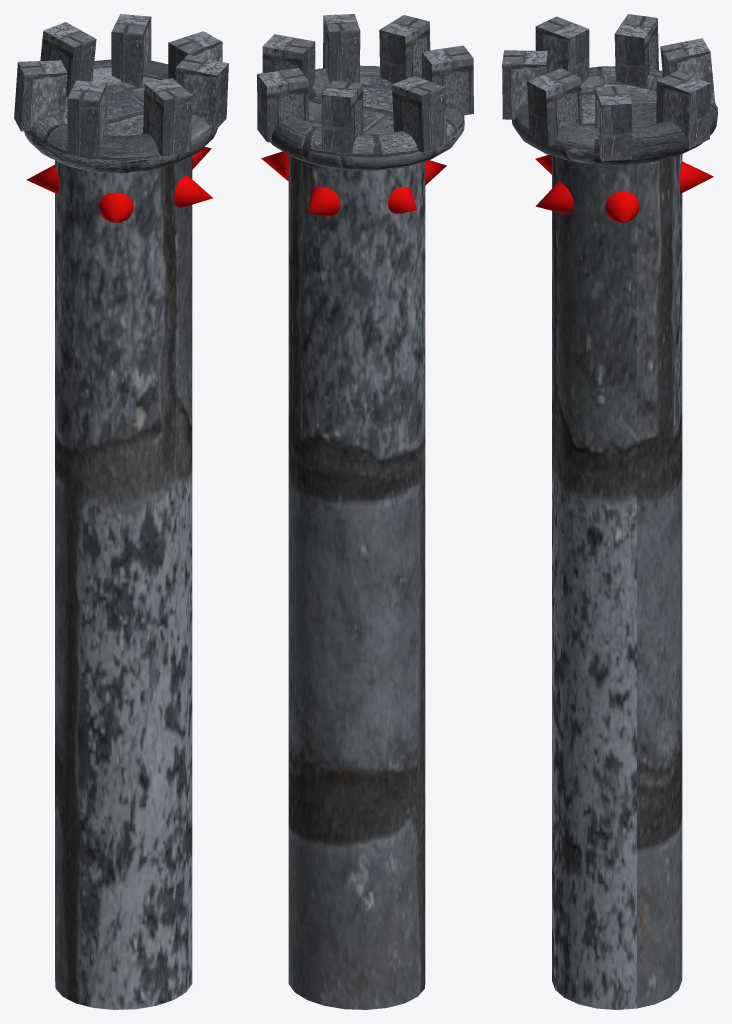
Rendered from CastlePillar.fbx.
3 renders of one model, left to right at view 1: azimuth 30°, elevation 25°; view 2: azimuth 150°, elevation 25°; view 3: azimuth 270°, elevation 25°, orthographic.
Visible parts, largest first — view 1: PillerCombined; view 2: PillerCombined; view 3: PillerCombined.
Boxes of the visible parts, x1=… form: PillerCombined: x1=14, y1=14, x2=228, y2=1009; PillerCombined: x1=257, y1=14, x2=473, y2=1009; PillerCombined: x1=502, y1=14, x2=717, y2=1009.
Bounding box in the file's own units: 12.47 × 58.58 × 12.39.
